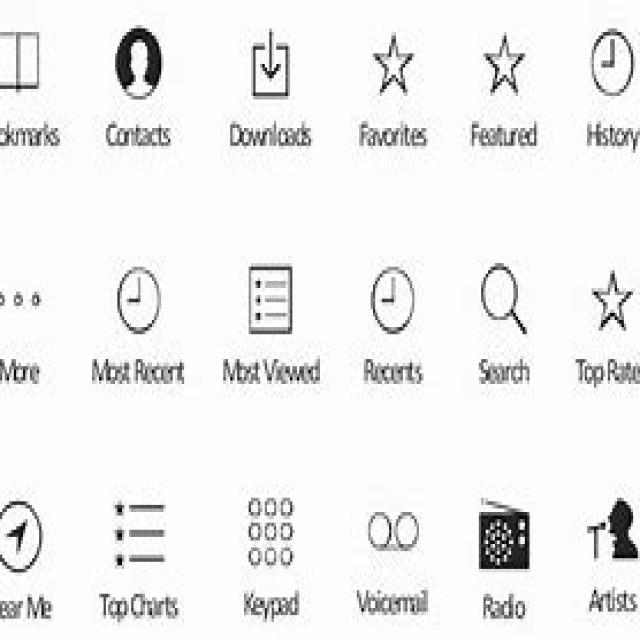icon: (108, 18, 170, 102), (476, 495, 536, 575), (363, 24, 419, 106), (110, 496, 166, 572), (245, 17, 295, 101), (584, 493, 640, 567), (480, 27, 533, 105), (585, 24, 635, 104), (246, 491, 294, 572), (482, 258, 528, 342), (245, 262, 295, 337), (0, 497, 46, 575), (114, 264, 162, 338), (370, 261, 416, 335), (590, 268, 637, 336), (0, 24, 43, 96), (366, 504, 422, 552), (0, 284, 43, 311)
label: (217, 351, 326, 386), (96, 582, 180, 627), (352, 578, 434, 624), (89, 353, 190, 388), (224, 116, 315, 153), (572, 351, 640, 395), (240, 582, 304, 627), (353, 116, 432, 150), (360, 352, 429, 390), (103, 116, 175, 152), (586, 580, 640, 627), (469, 115, 540, 150), (0, 587, 53, 633), (580, 118, 640, 156), (476, 352, 532, 392), (0, 118, 65, 150), (479, 588, 529, 627), (0, 349, 46, 391)
